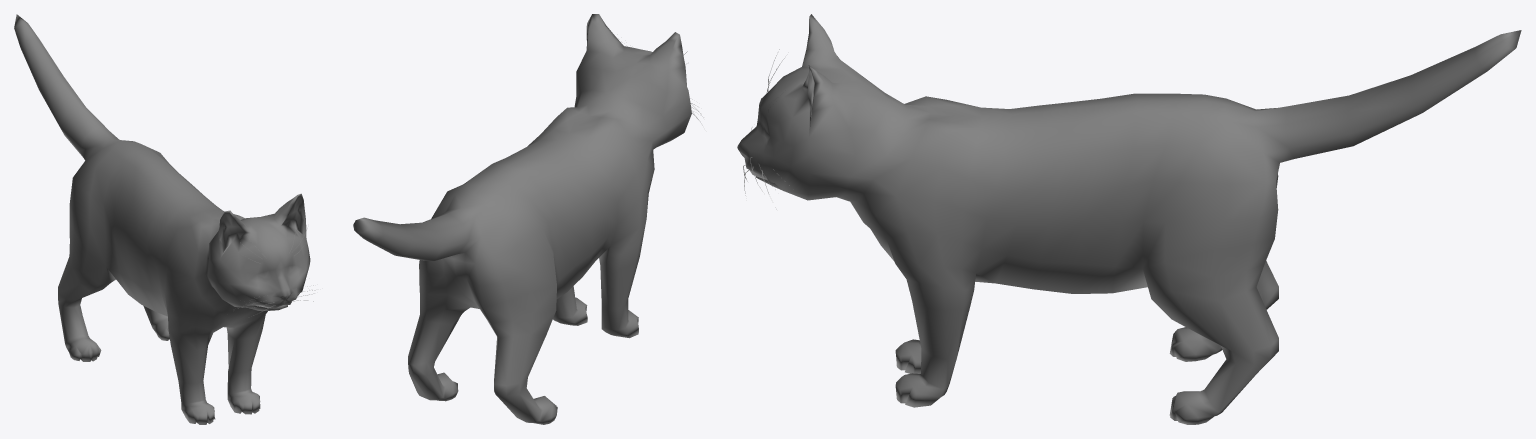
Rendered from cat1.glb.
The picture shows the model from 3 angles, left to right: view 1: azimuth 30°, elevation 25°; view 2: azimuth 150°, elevation 25°; view 3: azimuth 270°, elevation 25°; orthographic projection. The views are drawn at different scales.
Visible parts, largest first — view 1: node_id3; view 2: node_id3; view 3: node_id3.
Boxes of the visible parts, x1,y1,x2,y2 form: node_id3: (14, 14, 315, 424); node_id3: (353, 14, 703, 424); node_id3: (737, 14, 1521, 424).
Size of the model in its own units: 0.1256 by 0.2581 by 0.5128.
1 material, 1 textured.
